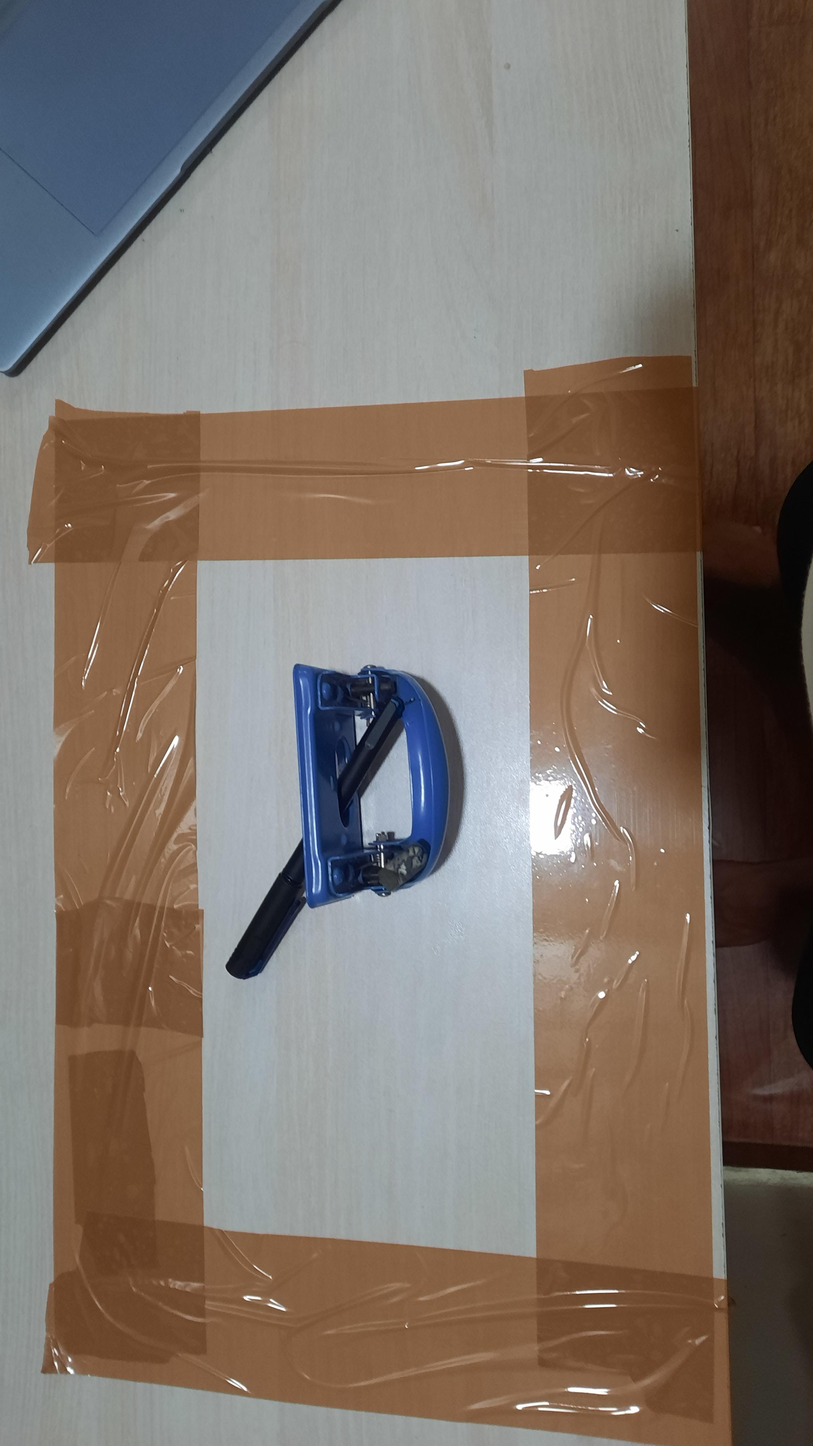Pen: (225, 697, 403, 981)
Punch: (292, 664, 450, 909)
